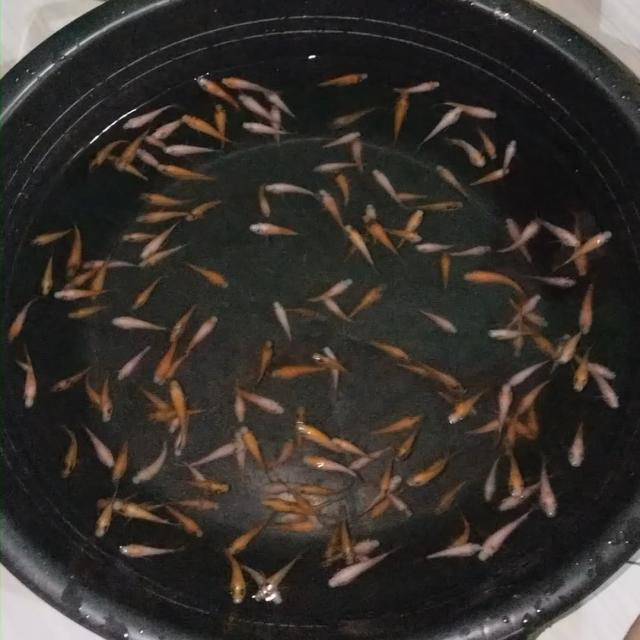nila: (323, 542, 406, 594), (474, 509, 534, 562), (499, 469, 563, 514), (408, 104, 464, 154), (252, 551, 308, 601), (556, 232, 611, 274), (138, 214, 186, 260), (408, 446, 466, 484), (418, 358, 473, 398), (316, 534, 384, 566), (432, 388, 485, 428), (460, 268, 526, 300), (130, 438, 174, 486), (178, 112, 240, 146), (113, 498, 178, 530), (238, 561, 286, 604), (301, 454, 363, 487), (84, 136, 130, 180), (444, 387, 492, 429), (80, 420, 120, 470), (225, 514, 273, 555), (497, 402, 540, 446), (298, 421, 349, 458), (362, 472, 406, 514), (138, 384, 184, 424), (516, 373, 556, 418), (180, 440, 240, 470), (228, 383, 288, 413), (366, 216, 404, 263), (160, 503, 208, 540), (508, 353, 558, 388), (120, 101, 178, 131), (92, 478, 120, 540), (300, 276, 354, 308), (238, 92, 288, 126), (238, 426, 272, 476), (198, 77, 246, 112), (372, 168, 410, 212), (443, 132, 488, 169), (493, 218, 540, 253), (347, 282, 389, 321), (504, 292, 547, 330), (280, 496, 338, 524), (136, 242, 190, 272), (220, 551, 250, 605), (429, 475, 469, 515), (184, 314, 222, 356), (391, 86, 415, 152), (538, 452, 562, 518), (504, 217, 536, 266), (115, 130, 148, 177), (370, 411, 427, 438), (566, 414, 592, 473), (436, 162, 474, 202), (117, 343, 155, 383), (168, 372, 191, 438), (360, 338, 416, 365), (240, 114, 298, 140), (344, 223, 376, 270), (568, 214, 592, 276), (187, 260, 235, 291), (50, 362, 96, 394), (106, 149, 148, 184), (8, 298, 38, 347), (155, 160, 216, 184), (394, 207, 428, 250), (502, 448, 531, 498), (110, 314, 170, 338), (63, 216, 86, 278), (418, 541, 480, 564), (349, 444, 396, 474), (538, 216, 582, 248), (266, 363, 330, 385), (132, 274, 169, 312), (330, 434, 380, 462), (508, 294, 550, 327), (577, 348, 620, 380), (367, 484, 405, 520), (168, 301, 202, 341), (155, 332, 181, 384), (92, 250, 119, 300), (94, 494, 168, 512), (115, 541, 189, 559), (132, 207, 198, 227), (64, 264, 108, 294), (257, 494, 330, 512), (592, 371, 624, 412), (56, 422, 79, 479), (144, 403, 206, 424), (464, 414, 516, 439), (262, 438, 296, 476), (494, 382, 516, 440), (445, 100, 500, 123), (310, 351, 358, 377), (150, 114, 193, 143), (318, 186, 346, 230), (260, 518, 316, 540), (444, 510, 472, 554), (418, 306, 459, 336), (29, 225, 78, 250), (280, 473, 312, 511), (316, 130, 366, 154), (568, 346, 592, 396), (228, 428, 252, 478), (252, 337, 276, 387), (49, 284, 128, 299), (304, 156, 363, 176), (526, 324, 558, 360), (378, 484, 414, 516), (576, 284, 598, 336), (178, 458, 208, 496), (160, 144, 230, 160), (264, 182, 320, 202), (482, 450, 502, 506), (82, 373, 109, 414), (314, 71, 372, 90), (163, 495, 221, 514), (321, 518, 346, 562), (270, 298, 296, 340), (213, 101, 232, 158), (219, 74, 273, 94), (391, 77, 447, 96), (396, 422, 424, 460), (110, 438, 133, 484), (329, 106, 371, 131), (248, 222, 306, 240), (136, 190, 194, 208), (322, 342, 342, 394), (383, 223, 428, 246), (472, 164, 515, 188), (339, 232, 372, 263), (548, 331, 572, 373), (560, 328, 588, 364), (68, 301, 110, 325), (510, 310, 530, 360), (38, 251, 58, 301), (250, 479, 312, 495), (178, 476, 233, 494), (325, 293, 354, 327), (184, 198, 223, 223), (283, 306, 329, 327), (160, 352, 186, 389), (172, 416, 193, 459), (344, 536, 374, 566), (290, 401, 310, 446), (267, 92, 299, 120), (338, 512, 354, 568), (82, 257, 145, 271), (396, 362, 439, 382), (403, 198, 468, 211), (138, 144, 166, 174), (272, 98, 288, 150), (24, 344, 36, 412), (478, 125, 500, 162), (534, 274, 578, 292), (522, 389, 536, 445), (334, 170, 356, 205), (232, 376, 248, 424), (506, 407, 523, 451), (451, 243, 494, 260), (256, 178, 274, 218), (121, 230, 176, 243), (351, 134, 367, 178), (438, 250, 454, 293), (294, 484, 351, 496), (100, 374, 113, 426), (502, 138, 520, 174), (488, 328, 542, 339), (380, 456, 397, 490), (304, 508, 328, 530), (144, 134, 170, 152), (412, 242, 458, 252), (164, 412, 184, 434), (397, 190, 433, 202), (15, 358, 34, 376), (365, 200, 378, 222)
